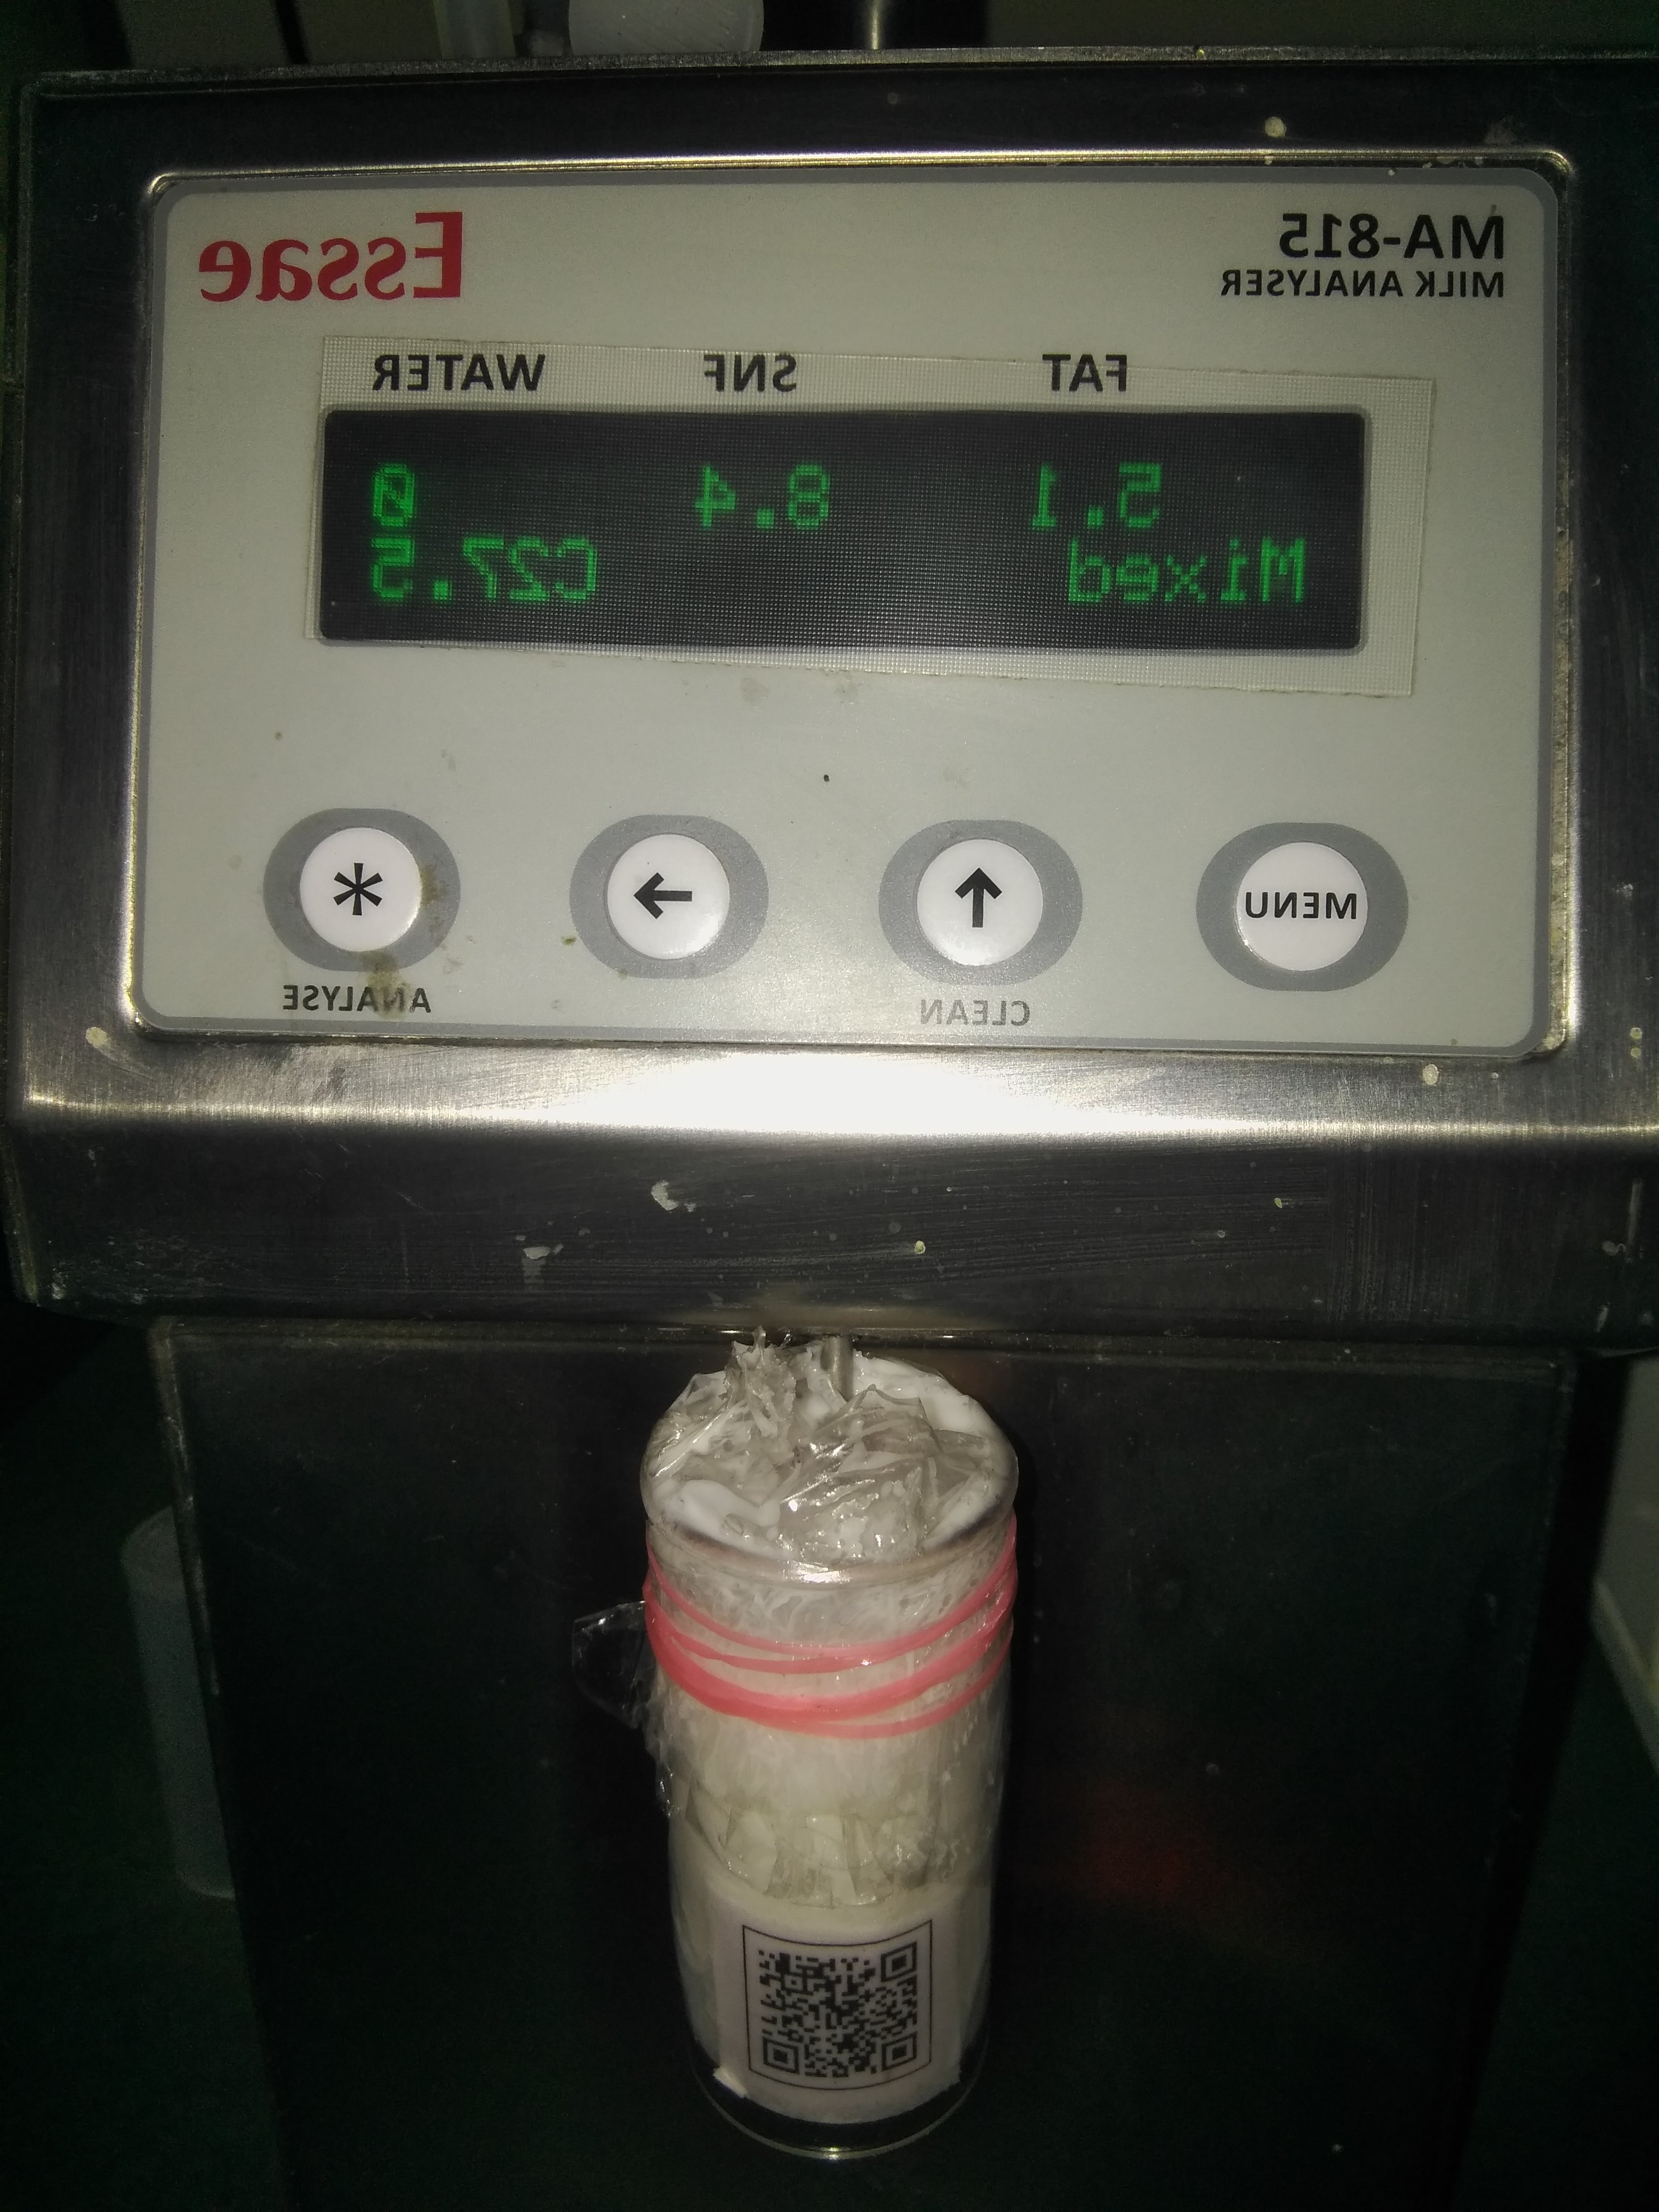lcd: (303, 394, 1405, 702)
qr: (732, 1911, 951, 2123)
